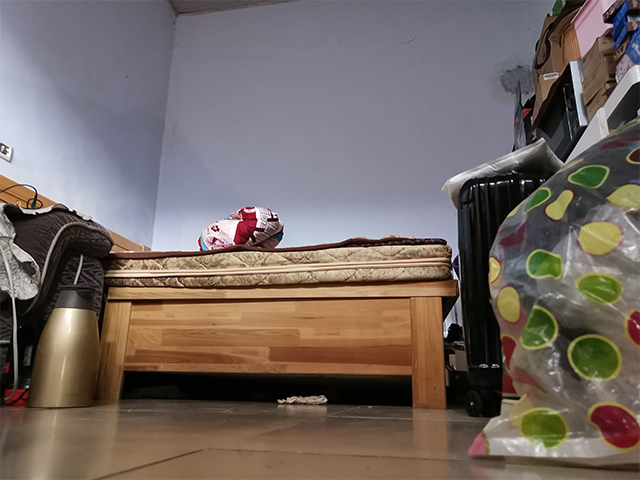bed: (93, 233, 460, 411)
socks: (276, 393, 329, 406)
